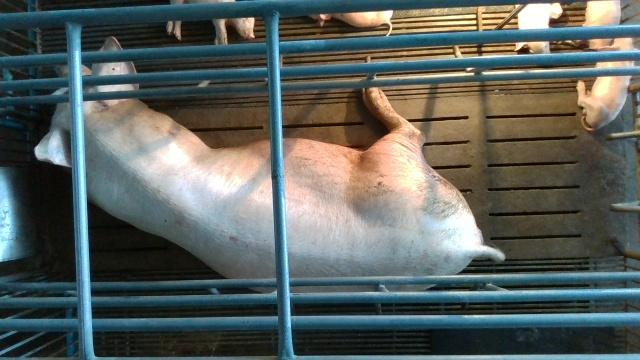piglet: (575, 38, 640, 132), (166, 0, 255, 44), (516, 2, 563, 53), (586, 0, 621, 48)
sow-sit: (34, 35, 507, 290)
